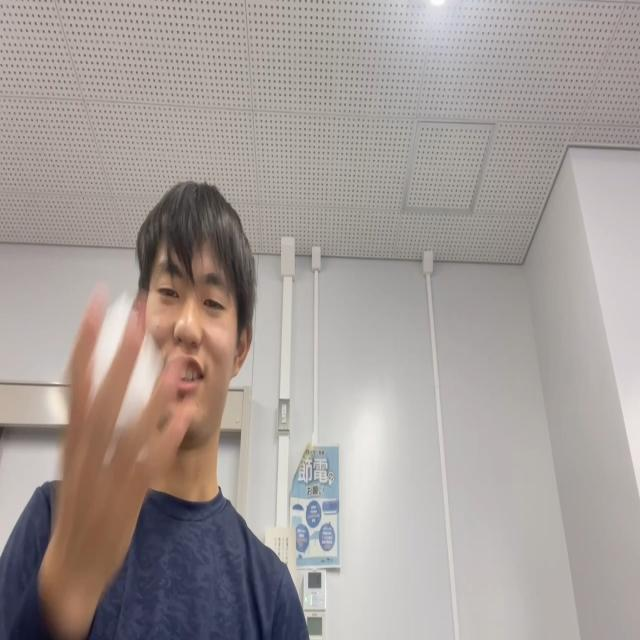paper: (85, 290, 165, 461)
